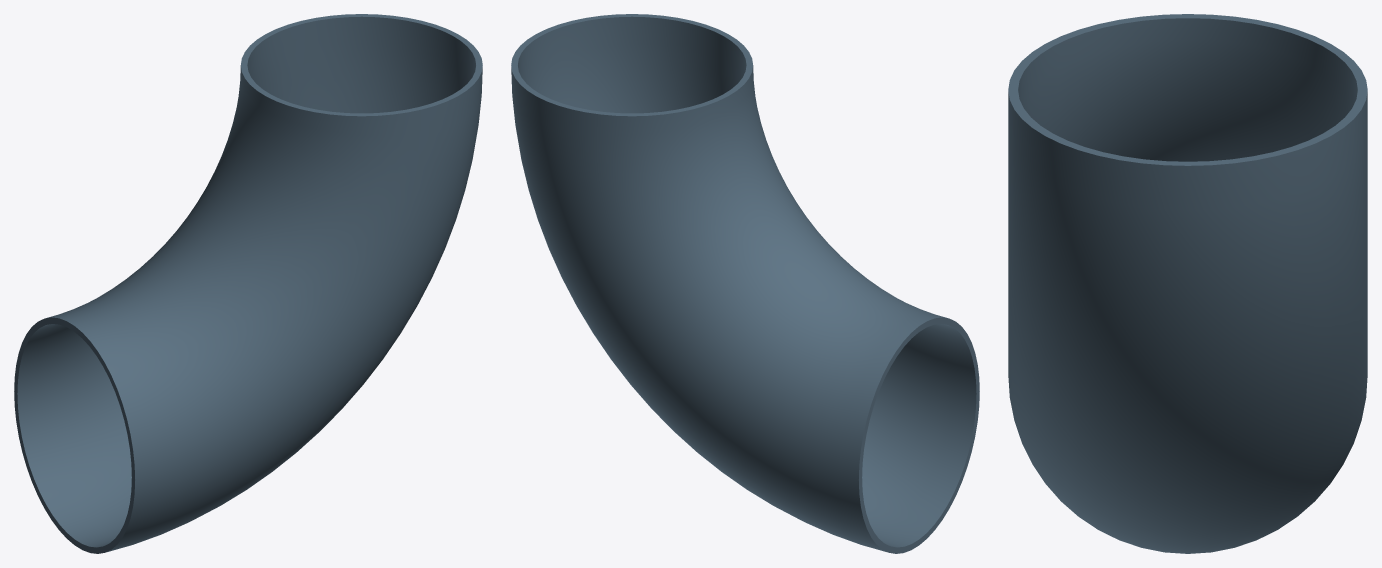
File: otvod-90-219x6-R300.glb
The picture shows the model from 3 angles, left to right: view 1: azimuth 30°, elevation 25°; view 2: azimuth 150°, elevation 25°; view 3: azimuth 270°, elevation 25°; orthographic projection. The views are drawn at different scales.
Parts seen in each view (by area): view 1: Open CASCADE STEP translator 7.9 65; view 2: Open CASCADE STEP translator 7.9 65; view 3: Open CASCADE STEP translator 7.9 65.
Boxes of the visible parts, left/top/right/bottom form: Open CASCADE STEP translator 7.9 65: left=14, top=14, right=482, bottom=553; Open CASCADE STEP translator 7.9 65: left=511, top=14, right=979, bottom=553; Open CASCADE STEP translator 7.9 65: left=1008, top=14, right=1367, bottom=553.
Size of the model in its own units: 410 by 410 by 219.
